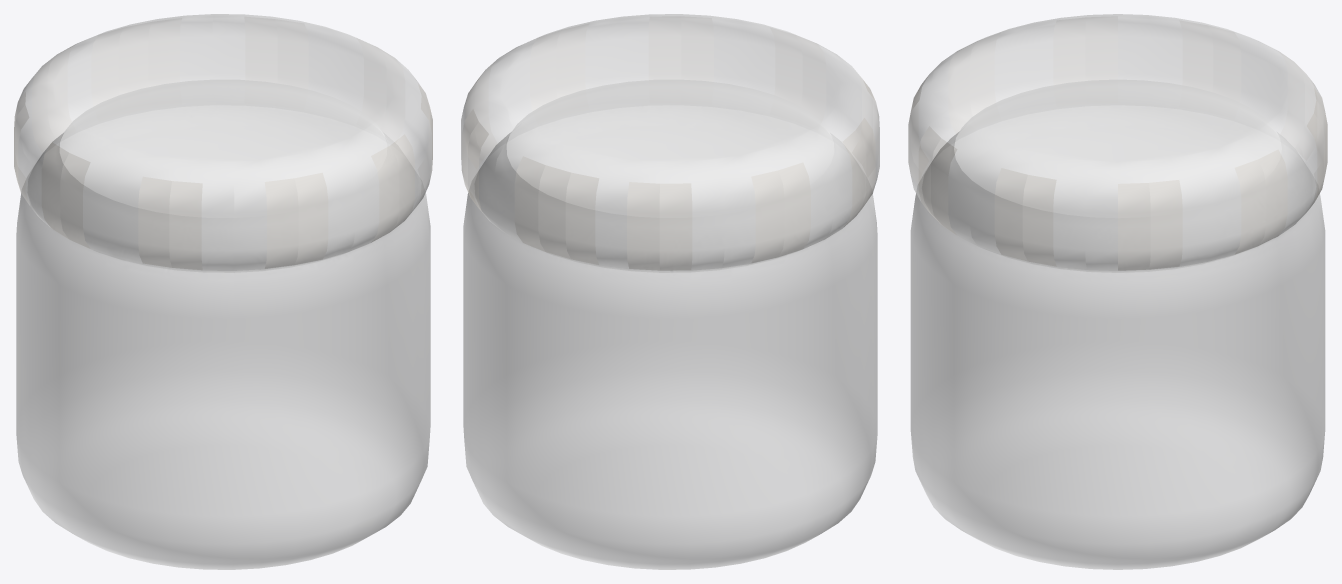
File: kav3_B.glb
The picture shows the model from 3 angles, left to right: view 1: azimuth 30°, elevation 25°; view 2: azimuth 150°, elevation 25°; view 3: azimuth 270°, elevation 25°; orthographic projection.
Visible parts, largest first — view 1: kav3_B; view 2: kav3_B; view 3: kav3_B.
Boxes of the visible parts, bbox=[...] form: kav3_B: bbox=[14, 14, 432, 569]; kav3_B: bbox=[461, 14, 879, 569]; kav3_B: bbox=[908, 14, 1327, 569].
Size of the model in its own units: 2.85 by 3.1 by 2.85.
1 material, 1 textured.
